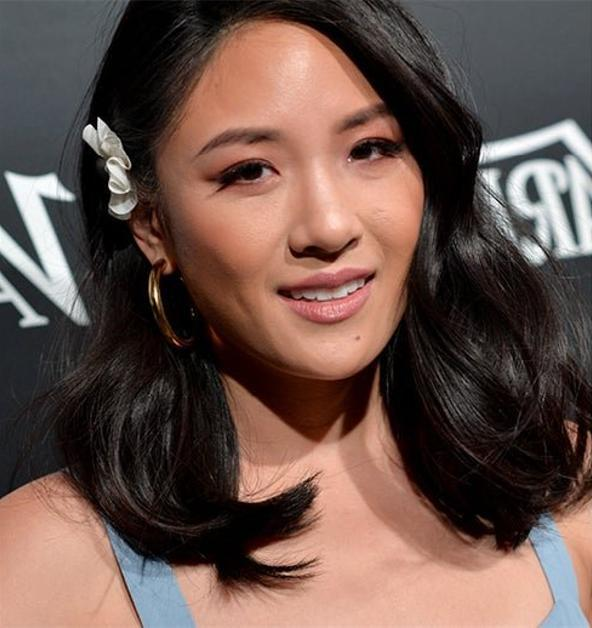Sober: (156, 22, 427, 378)
